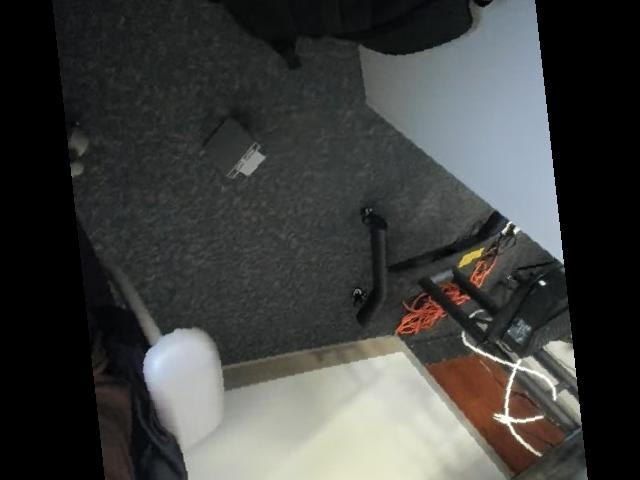grey pallet: (197, 108, 296, 196)
